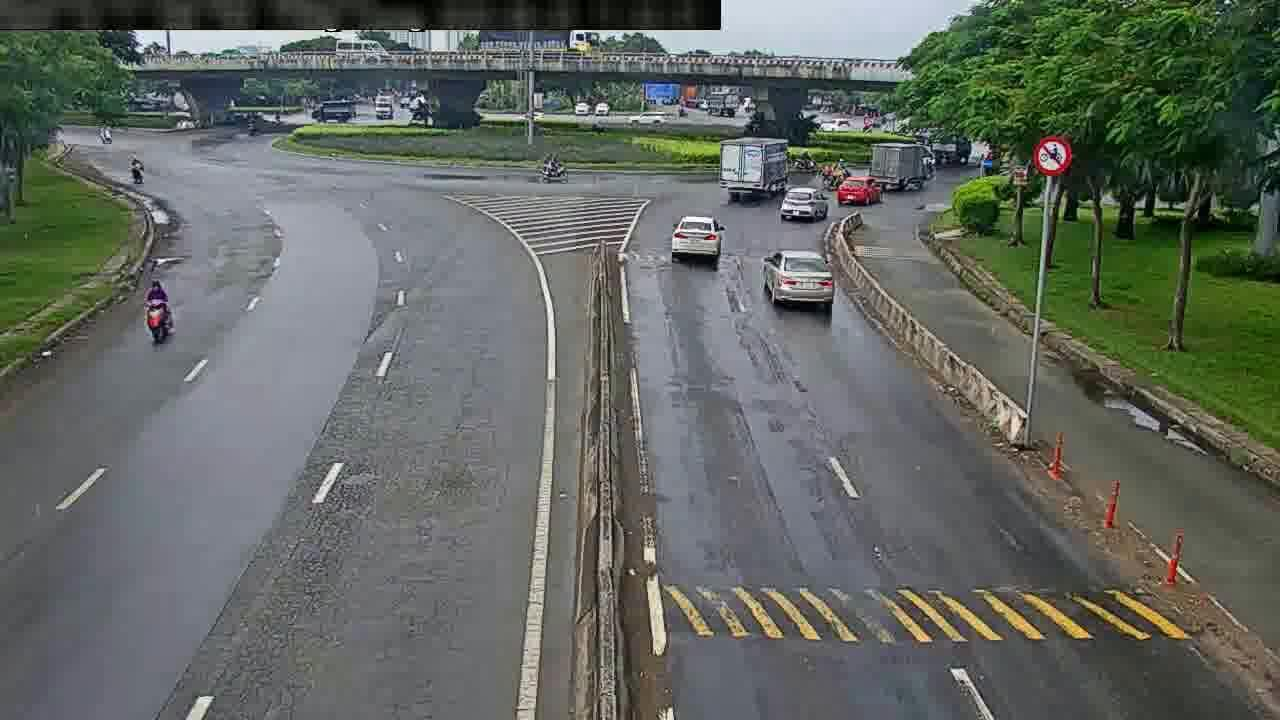8: (716, 127, 798, 202), (866, 134, 943, 191)
container: (749, 243, 843, 315), (663, 212, 736, 264), (770, 190, 833, 222), (832, 171, 883, 208)
motorbike: (137, 272, 175, 353), (537, 150, 583, 179)
